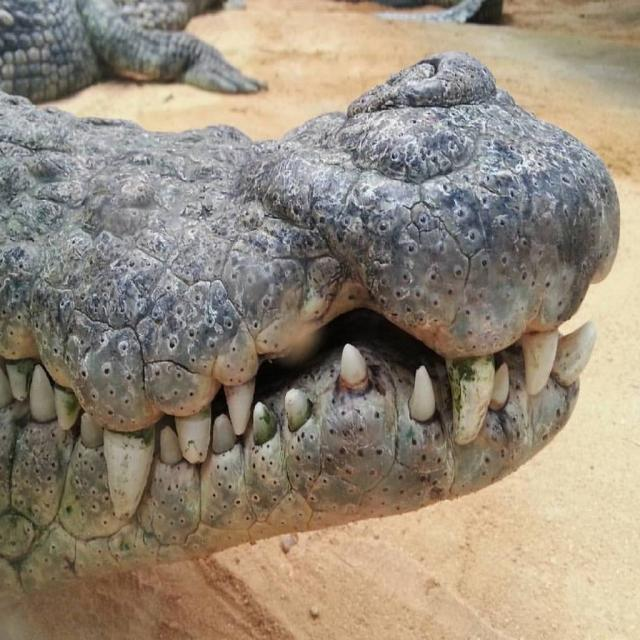crocodile: (0, 0, 629, 587)
